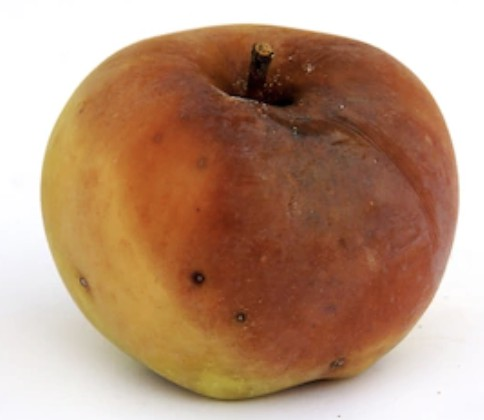rotten_apple: (39, 22, 461, 403)
